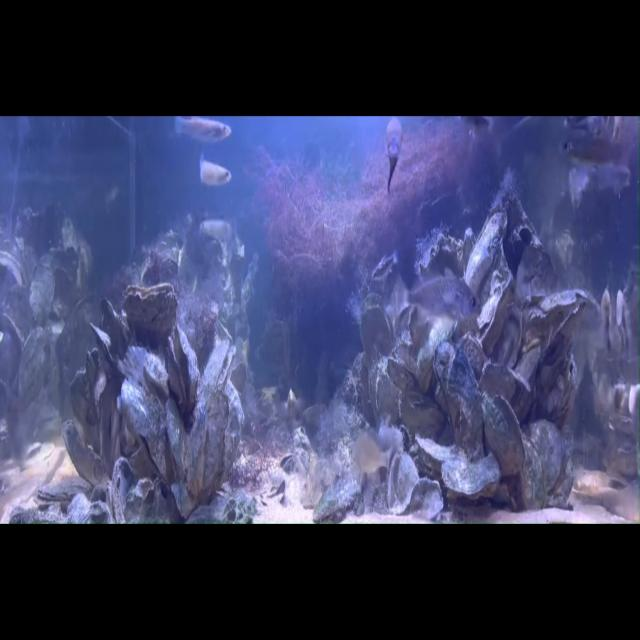Oyster- Indeterminate: (466, 214, 507, 297), (422, 234, 464, 275)
Oyster-Closed: (434, 342, 482, 458), (186, 389, 230, 507), (120, 380, 168, 480), (535, 336, 578, 429), (481, 393, 525, 476), (124, 282, 178, 342), (478, 267, 514, 353), (479, 360, 532, 418), (441, 453, 500, 500), (120, 344, 169, 396), (529, 420, 565, 489), (314, 473, 364, 522), (416, 318, 445, 393), (399, 393, 446, 439), (19, 327, 46, 407), (388, 329, 420, 391), (520, 436, 546, 509), (100, 298, 131, 359), (415, 433, 462, 473), (49, 247, 79, 306), (0, 313, 22, 384), (29, 264, 55, 324), (38, 476, 92, 502), (91, 324, 119, 372)
Oyster-Open: (109, 458, 181, 524), (64, 365, 102, 486), (522, 289, 586, 349), (388, 453, 444, 520), (168, 324, 199, 413), (360, 293, 392, 362), (201, 344, 233, 398), (226, 383, 242, 472), (0, 249, 25, 301), (140, 259, 177, 292)
